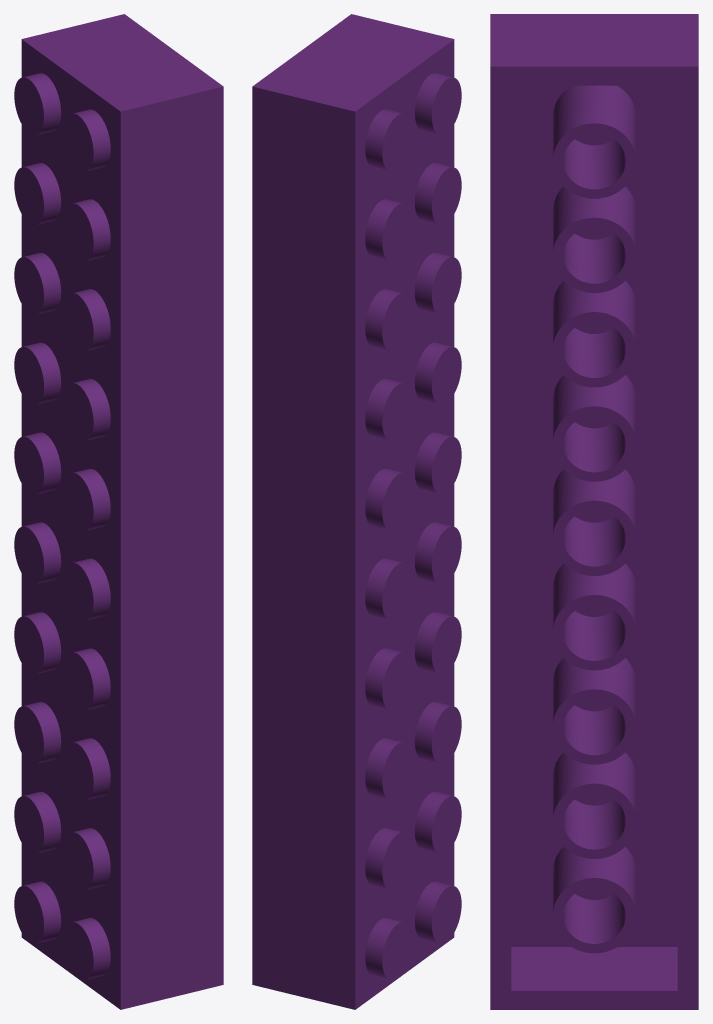
Rendered from brick2*10_medium_lavender.obj.
The picture shows the model from 3 angles, left to right: view 1: azimuth 30°, elevation 25°; view 2: azimuth 150°, elevation 25°; view 3: azimuth 270°, elevation 25°; orthographic projection. The views are drawn at different scales.
Parts seen in each view (by area): view 1: brick2*10_medium_lavender; view 2: brick2*10_medium_lavender; view 3: brick2*10_medium_lavender.
Part boxes in pixels (left/top/right/bottom): brick2*10_medium_lavender: left=14, top=14, right=223, bottom=1009; brick2*10_medium_lavender: left=252, top=14, right=461, bottom=1009; brick2*10_medium_lavender: left=490, top=14, right=698, bottom=1009.
Size of the model in its own units: 28 by 200 by 40.
